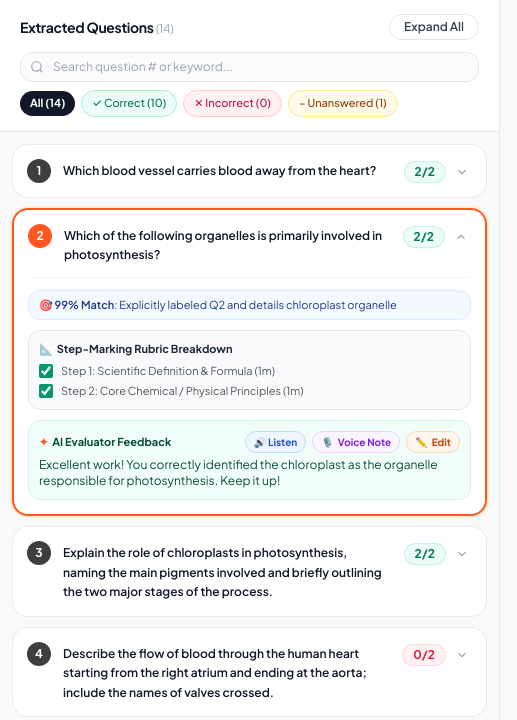
Test: UI Components Unit Tests › QuestionList › filters questions by unanswered status tab
Click the button "– Unanswered (1)": x=343, y=103 [288, 90, 398, 116]
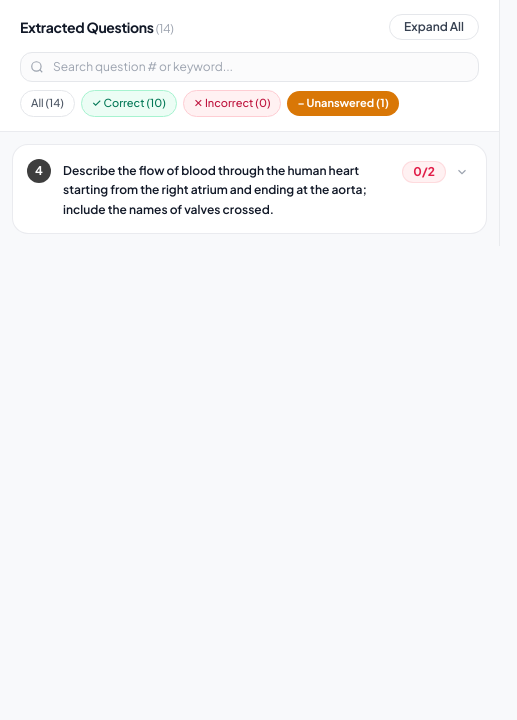
Check: the text "flow of blood through the human heart" is shown, box [63, 162, 367, 216]
Check: the text "organelles is primarily involved in photosynthesis" is gone
